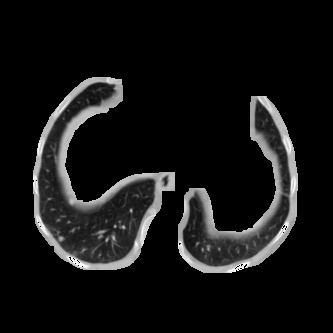PN: (59, 237, 63, 241)
